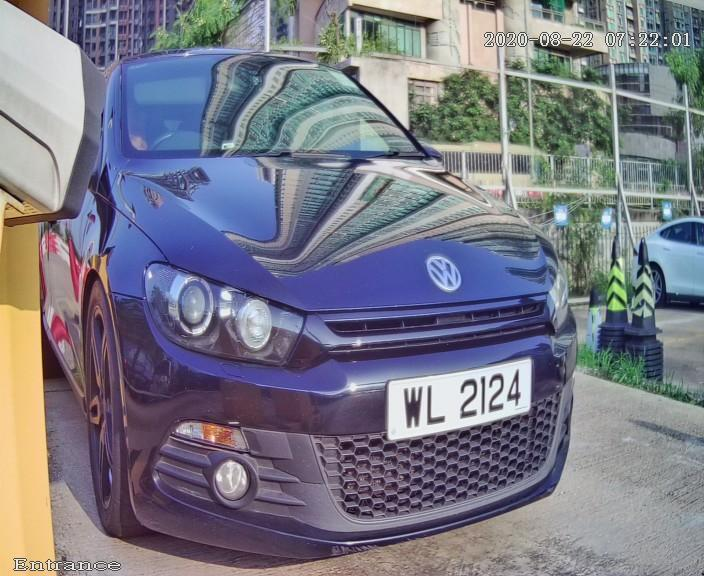Car: (35, 8, 607, 551)
License Plate: (353, 336, 553, 453)
